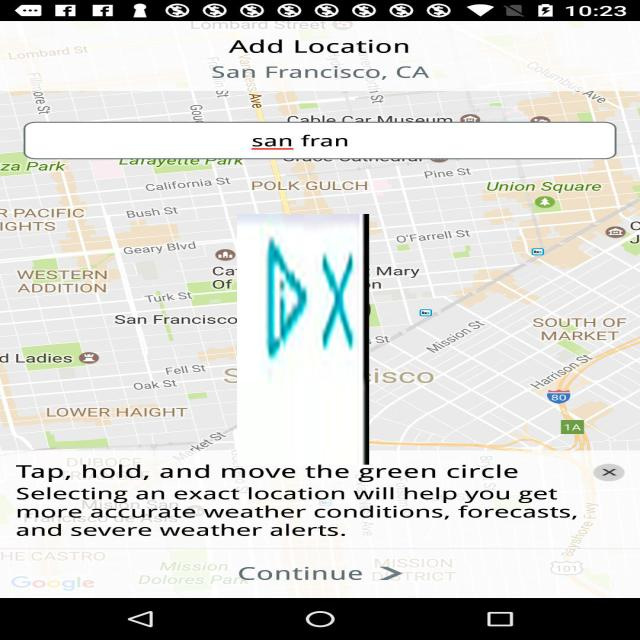sneaking: (237, 214, 369, 465)
